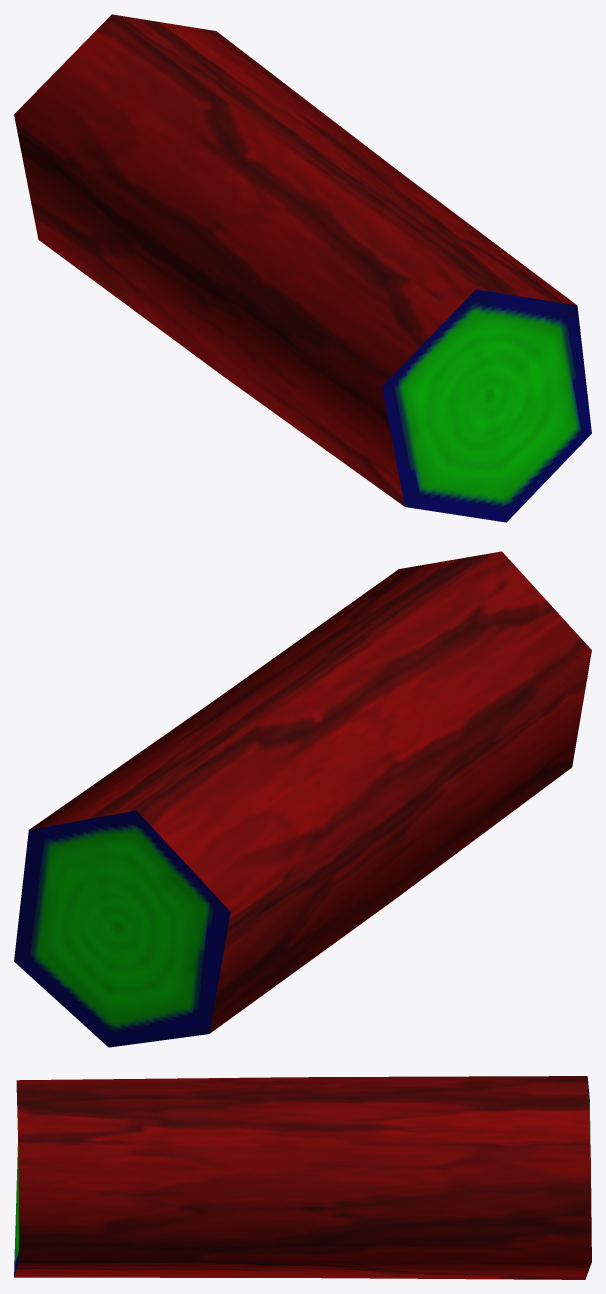
Rendered from Firewood03.fbx.
The picture shows the model from 3 angles, top to bottom: view 1: azimuth 30°, elevation 25°; view 2: azimuth 150°, elevation 25°; view 3: azimuth 270°, elevation 25°; orthographic projection. The views are drawn at different scales.
Visible parts, largest first — view 1: Firewood03_LOD0; view 2: Firewood03_LOD0; view 3: Firewood03_LOD0.
Part boxes in pixels (left/top/right/bottom): Firewood03_LOD0: left=14, top=14, right=591, bottom=522; Firewood03_LOD0: left=14, top=551, right=591, bottom=1047; Firewood03_LOD0: left=14, top=1076, right=591, bottom=1279.
Size of what is drawn, in the model's own units: 0.1103 by 0.1195 by 0.3246.
